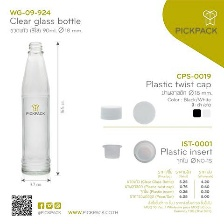bottle: (20, 38, 54, 177)
